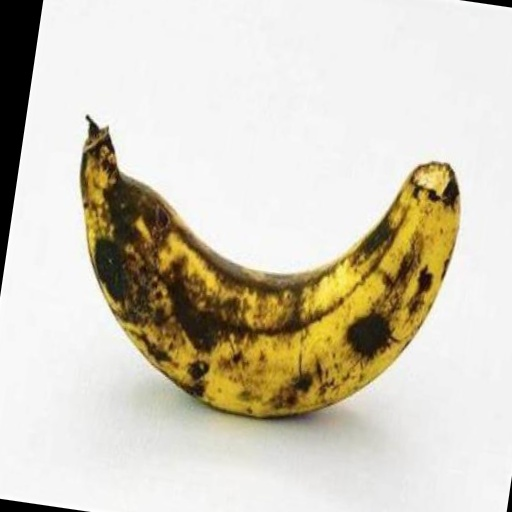fruit: (80, 118, 459, 417)
